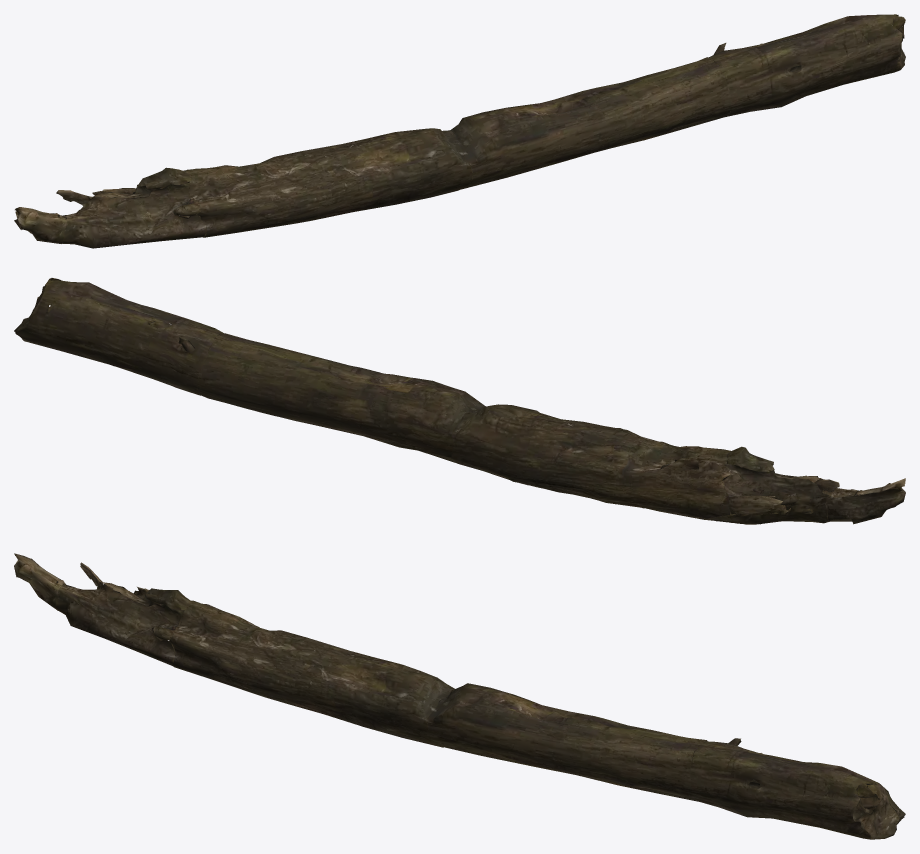
The model's file is dead_tree_trunk.glb.
The picture shows the model from 3 angles, top to bottom: view 1: azimuth 30°, elevation 25°; view 2: azimuth 150°, elevation 25°; view 3: azimuth 330°, elevation 25°; orthographic projection.
Visible parts, largest first — view 1: dead_tree_trunk; view 2: dead_tree_trunk; view 3: dead_tree_trunk.
Boxes of the visible parts, x1,y1,x2,y2 form: dead_tree_trunk: [14, 14, 905, 248]; dead_tree_trunk: [14, 278, 905, 524]; dead_tree_trunk: [14, 553, 905, 839].
Size of the model in its own units: 3.05 by 0.2914 by 0.2736.
Materials: 1 (1 with a texture image).
